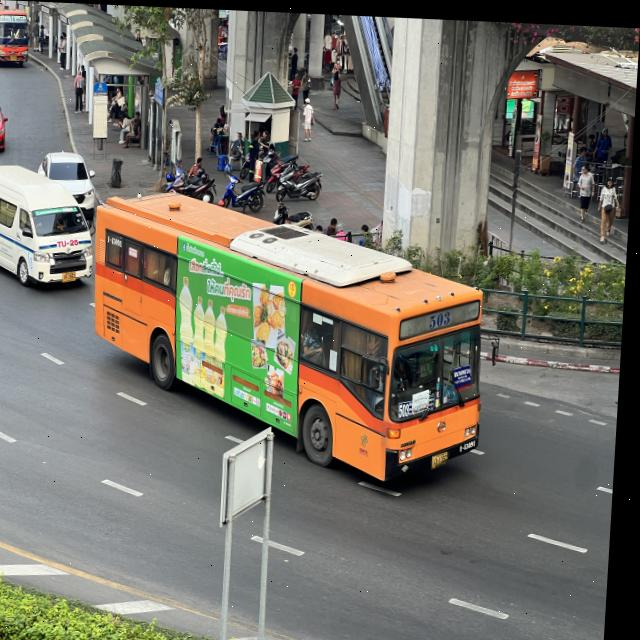BMTA-bus: (95, 194, 487, 481)
Bus Line Number: (430, 302, 457, 328)
Bus Side Number: (462, 430, 484, 451)
Destination Sign: (457, 362, 479, 381)
